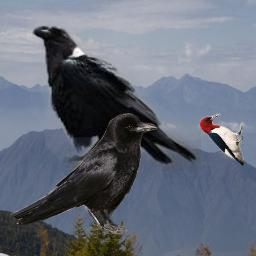Crow: (32, 18, 201, 171), (10, 113, 158, 234)
Woodpecker: (199, 113, 244, 166)
